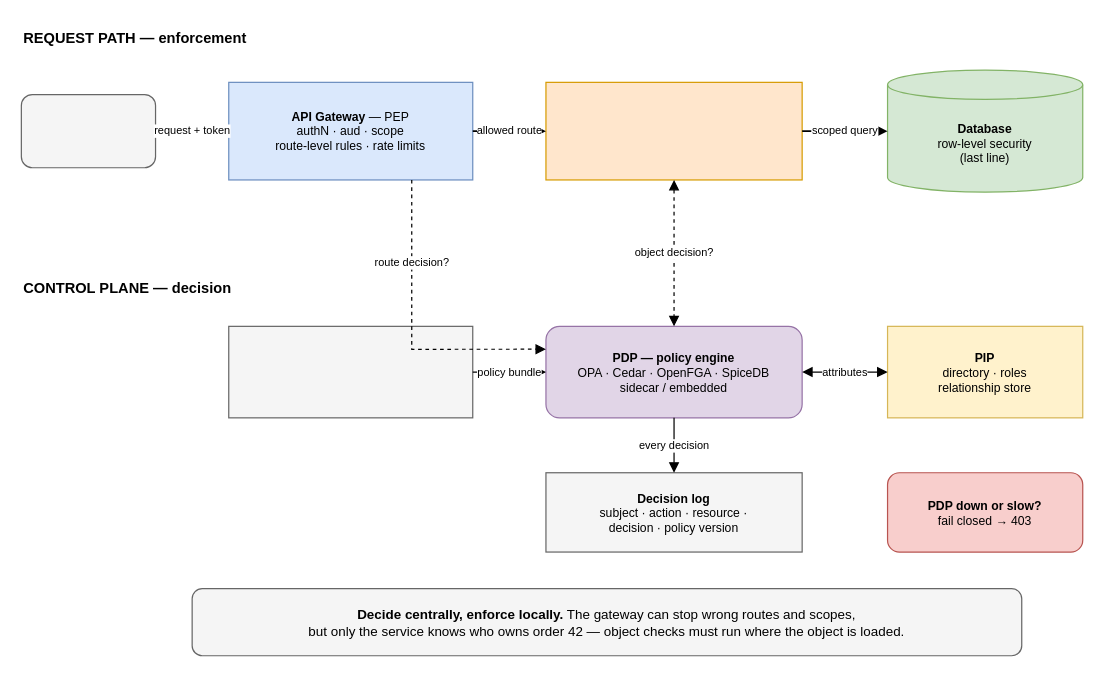
The diagram is 1104 pixels wide and 677 high, and some of its shapes have lost their labels. Here are the shapes that lost their labels. From the top down, the centre of each, then its label:
the point at 88,130: Client
the point at 673,130: Service — PEP object · property · tenant checks (has domain context)
the point at 350,371: PAP policies in git review + CI tests
